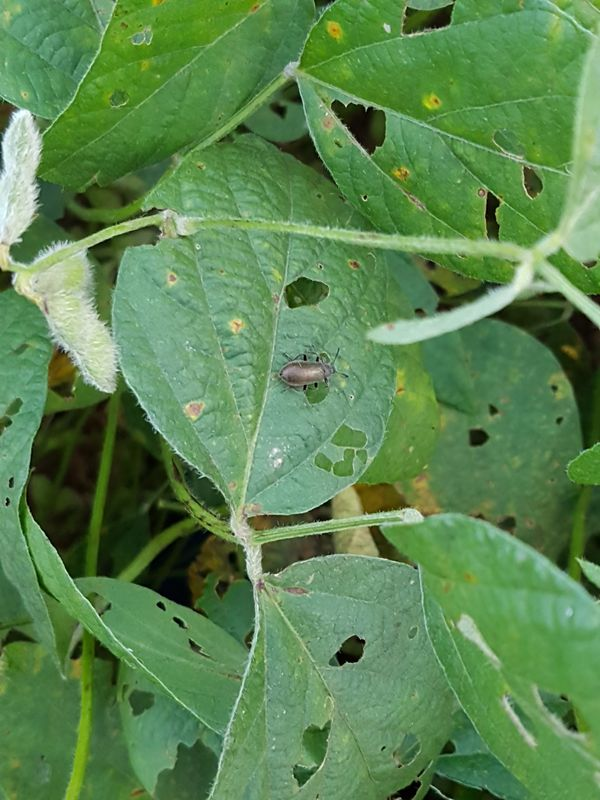Lagria_villosa: (264, 337, 352, 407)
